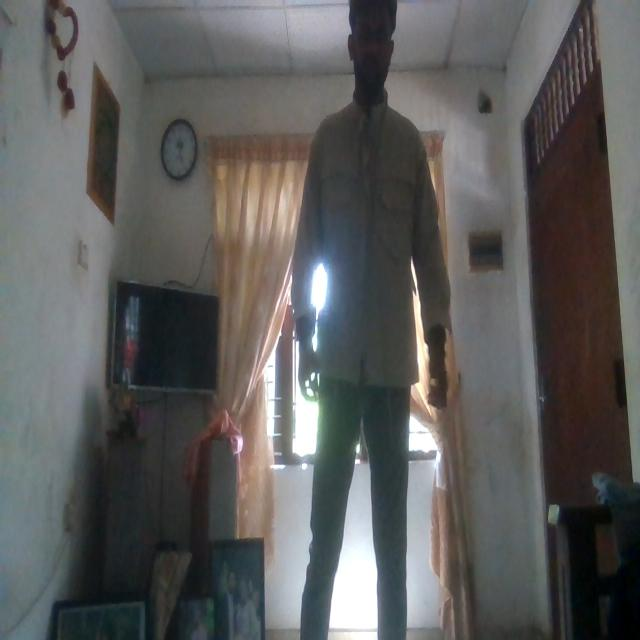Jacket_Wearer: (298, 101, 446, 412)
Person: (294, 0, 446, 634)
